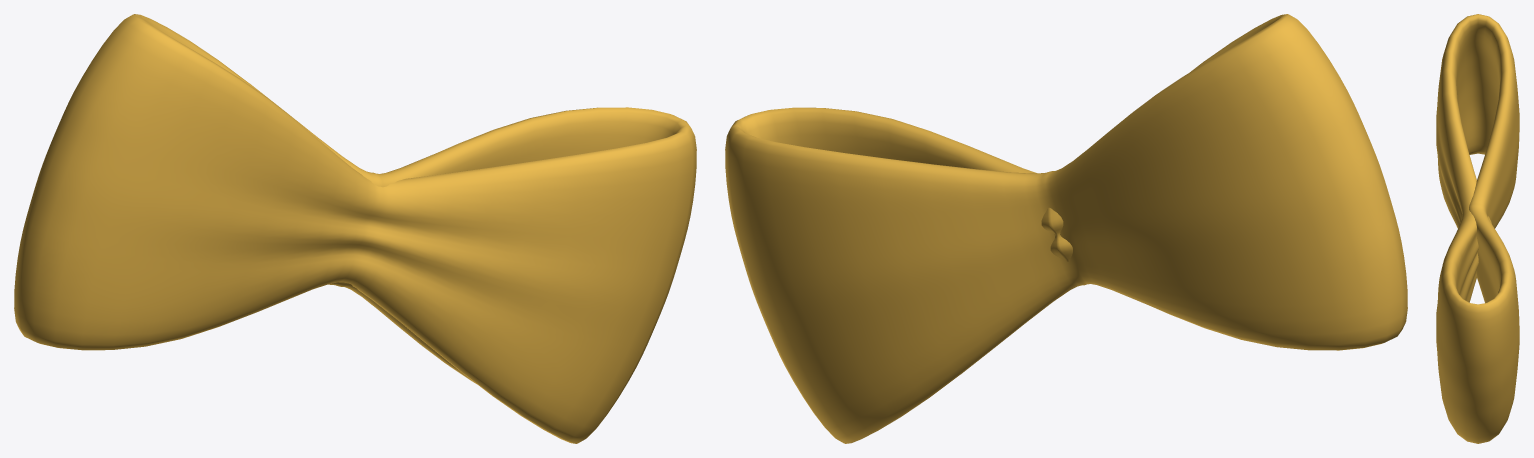
Rendered from yellow_ribbon.glb.
3 renders of one model, left to right at view 1: azimuth 30°, elevation 25°; view 2: azimuth 150°, elevation 25°; view 3: azimuth 270°, elevation 25°, orthographic. The views are drawn at different scales.
Visible parts, largest first — view 1: Ribbon 2; view 2: Ribbon 2; view 3: Ribbon 2.
Boxes of the visible parts, x1,y1,x2,y2 form: Ribbon 2: (14, 14, 696, 443); Ribbon 2: (725, 14, 1407, 443); Ribbon 2: (1436, 14, 1519, 443).
Bounding box in the file's own units: 1.9 × 1.42 × 0.3521.
